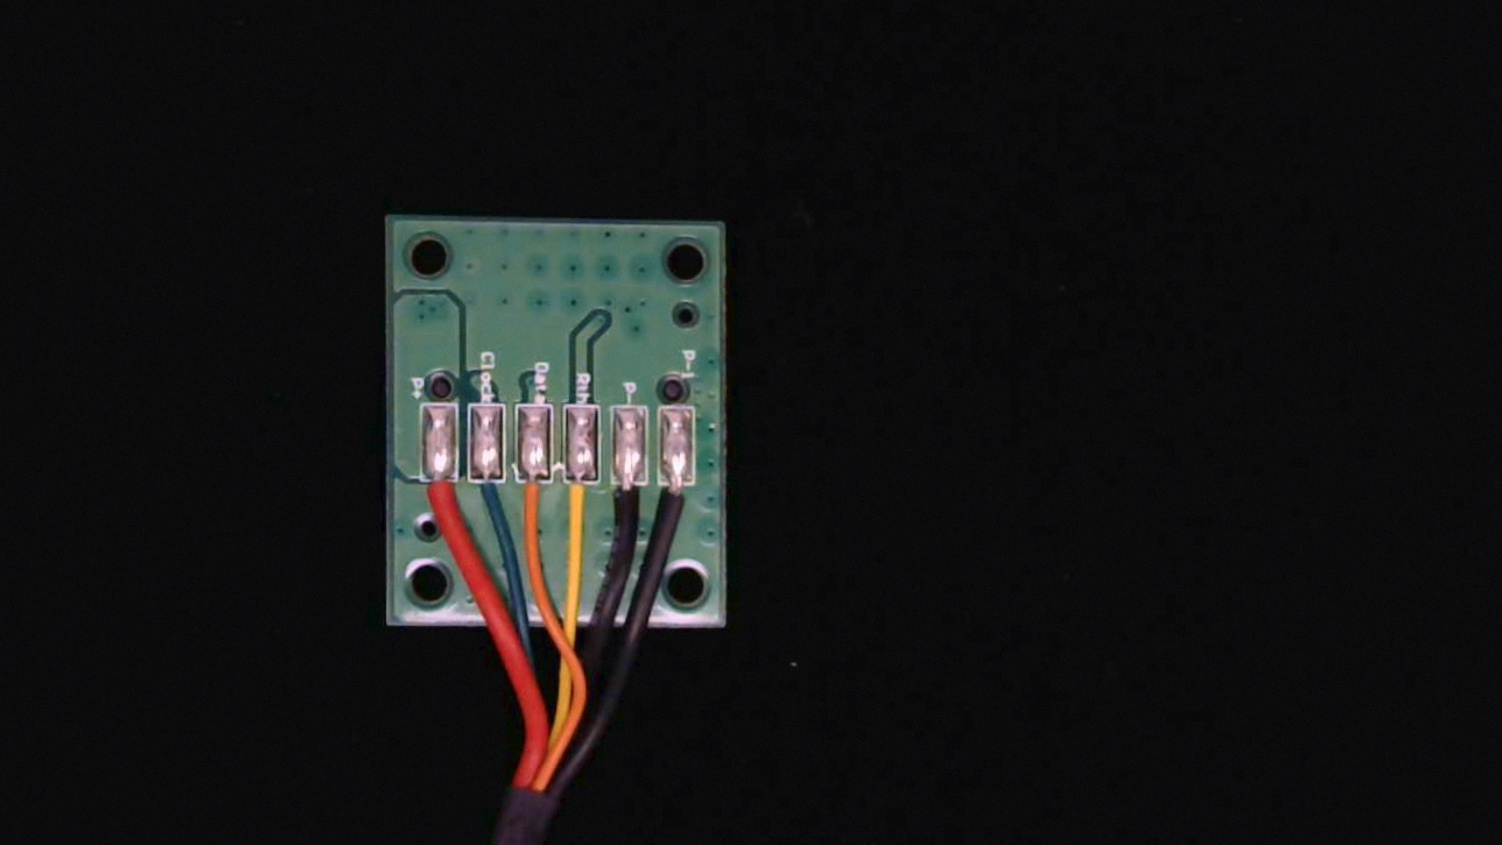Black: (610, 462, 650, 533)
Black1: (659, 462, 696, 537)
Green: (465, 460, 508, 530)
Orange: (514, 460, 553, 543)
Red: (421, 456, 461, 539)
Yellow: (563, 463, 602, 540)
